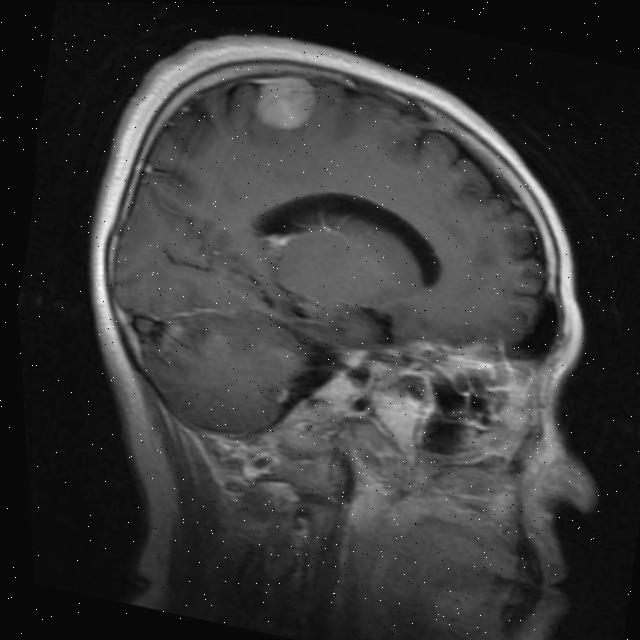Meningioma: (248, 66, 323, 137)
